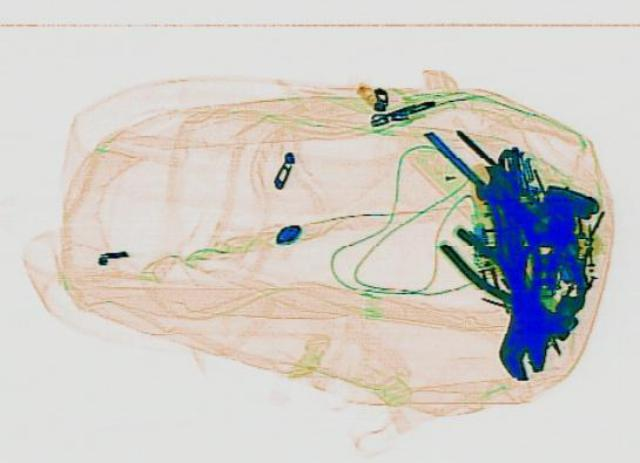Pliers: (424, 224, 588, 341)
Wrench: (482, 147, 548, 380)
